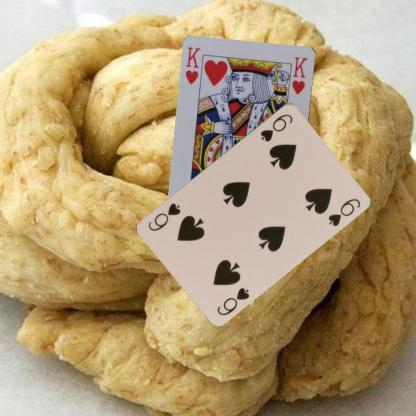6s: (214, 284, 251, 317), (258, 111, 294, 143)
Kh: (183, 45, 202, 86)
